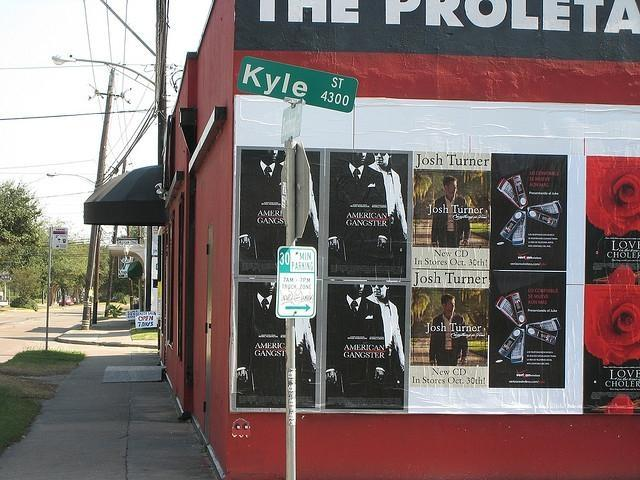car: (59, 296, 73, 306)
